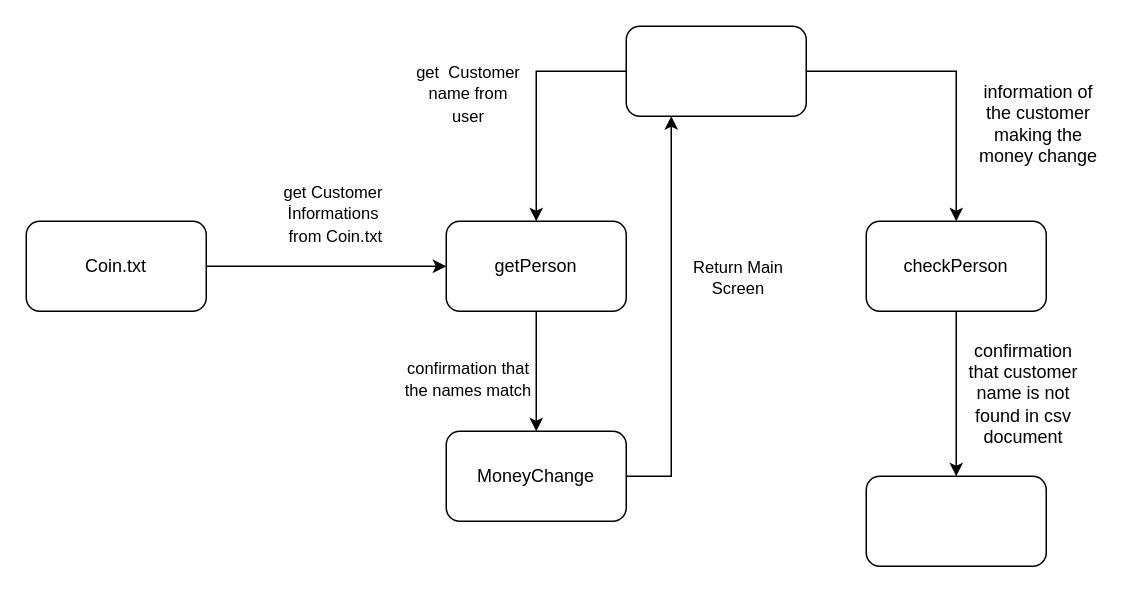
This 1133x593 diagram has some shape labels left out. The shapes that lost their labels are listed below. From the top down, each one's centre as x and y in pixels, then its label:
point 715,70: MainScreen
point 955,520: WriteCsv
